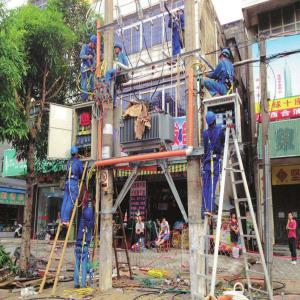blue: (207, 111, 219, 129), (220, 48, 231, 64), (70, 145, 80, 162), (89, 35, 99, 50), (114, 42, 123, 55)
none: (289, 212, 294, 221), (139, 216, 144, 223), (233, 212, 237, 220), (162, 218, 166, 225)
